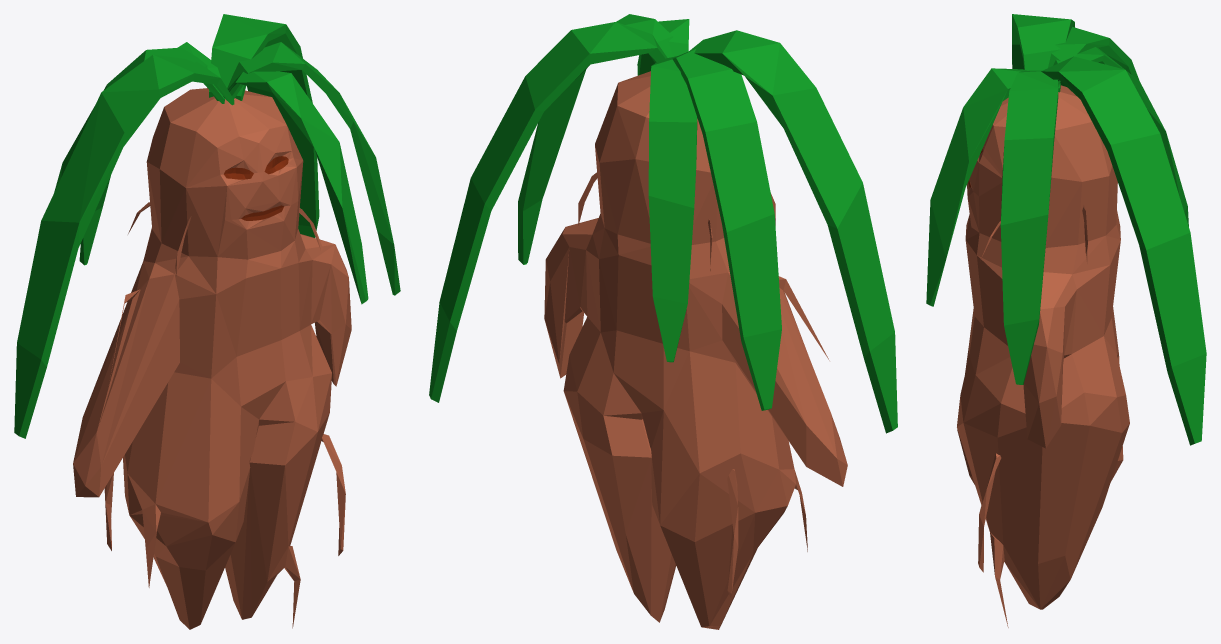
File: Ingredient_mandragora_1.fbx
The picture shows the model from 3 angles, left to right: view 1: azimuth 30°, elevation 25°; view 2: azimuth 150°, elevation 25°; view 3: azimuth 270°, elevation 25°; orthographic projection. The views are drawn at different scales.
Parts seen in each view (by area): view 1: Mandragora.001; view 2: Mandragora.001; view 3: Mandragora.001.
Part boxes in pixels (box(x1,y1,x2,y2)): Mandragora.001: box(14, 14, 400, 629); Mandragora.001: box(429, 14, 897, 629); Mandragora.001: box(926, 14, 1206, 627).
Bounding box in the file's own units: 24.35 × 36.27 × 16.46.
